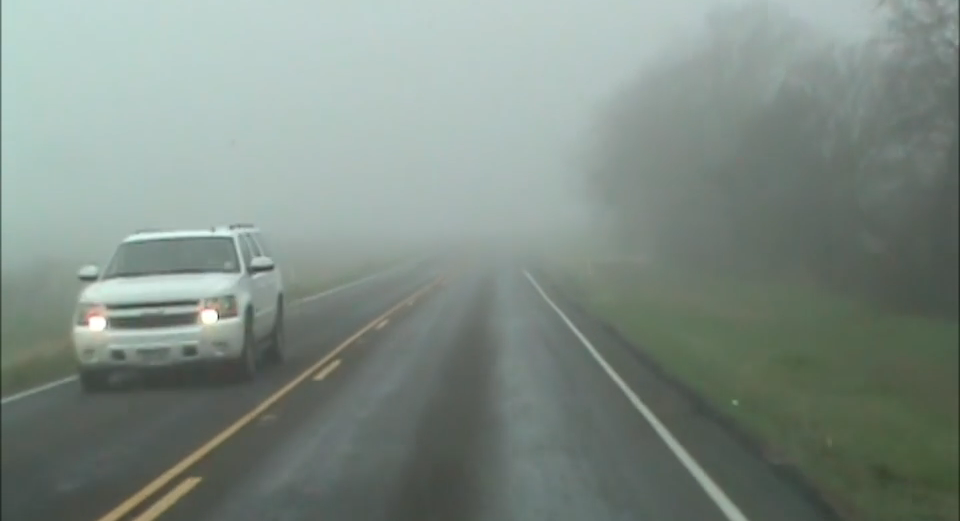car: (67, 221, 286, 393)
